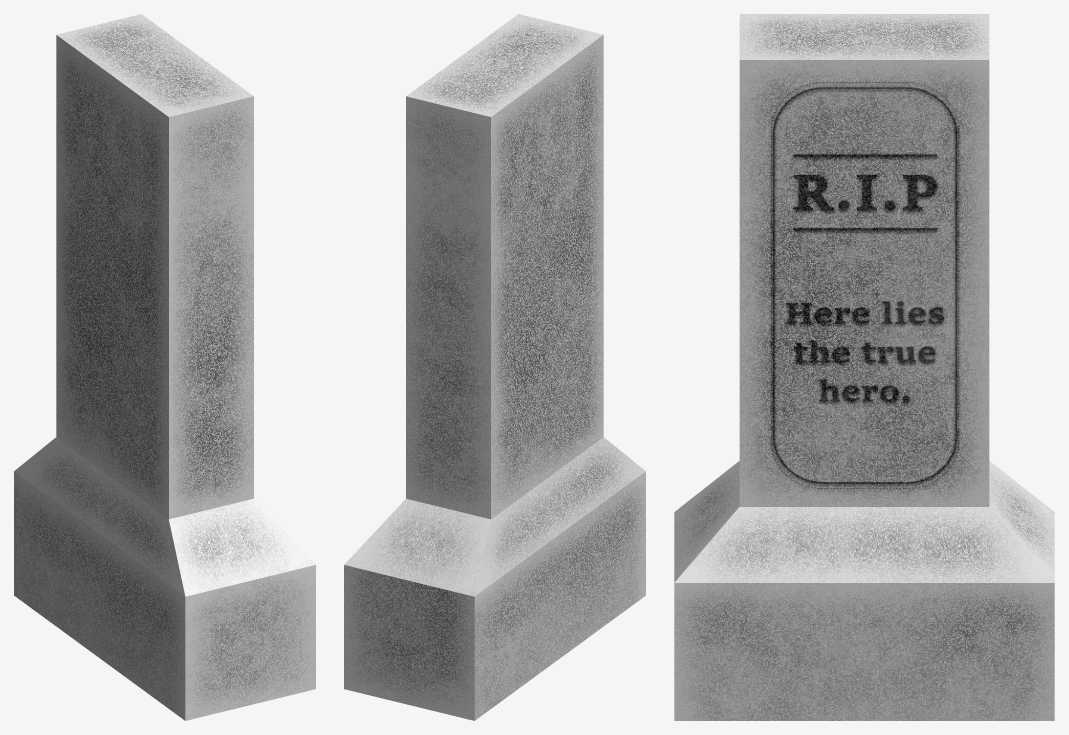
File: Tombstone 1.obj
3 views of the same model, side by side, from view 1: azimuth 30°, elevation 25°; view 2: azimuth 150°, elevation 25°; view 3: azimuth 270°, elevation 25° (orthographic). The views are drawn at different scales.
Visible parts, largest first — view 1: Cube; view 2: Cube; view 3: Cube.
Boxes of the visible parts, bbox=[...] form: Cube: bbox=[14, 14, 315, 720]; Cube: bbox=[344, 14, 645, 720]; Cube: bbox=[674, 14, 1054, 720].
Size of the model in its own units: 0.8799 by 3.73 by 2.
1 material, 1 textured.
